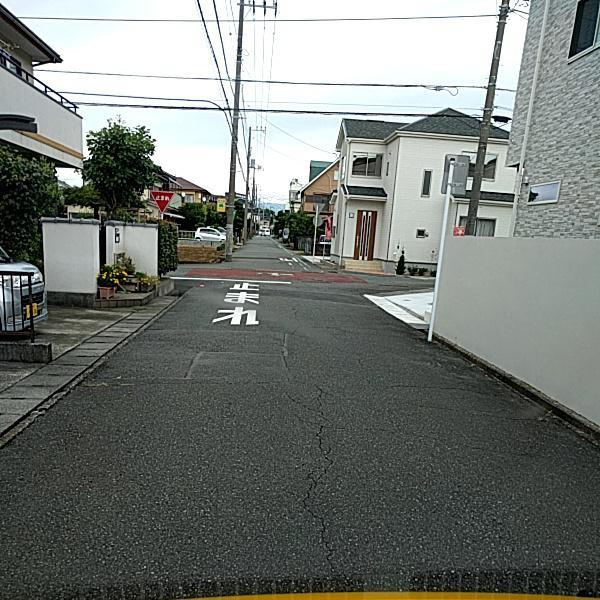D00: (290, 378, 341, 585)
D10: (403, 431, 579, 460), (410, 399, 533, 419), (391, 384, 504, 396)
